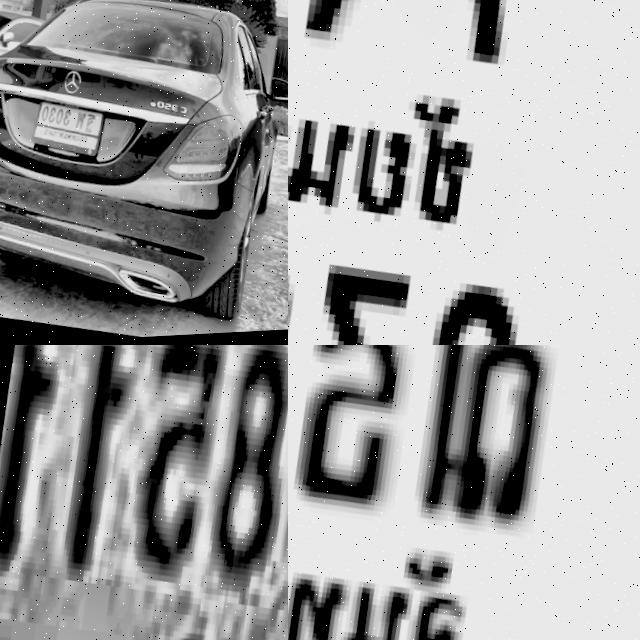license-plate: (288, 0, 640, 345), (288, 345, 640, 640), (0, 345, 288, 640), (22, 94, 104, 160)
